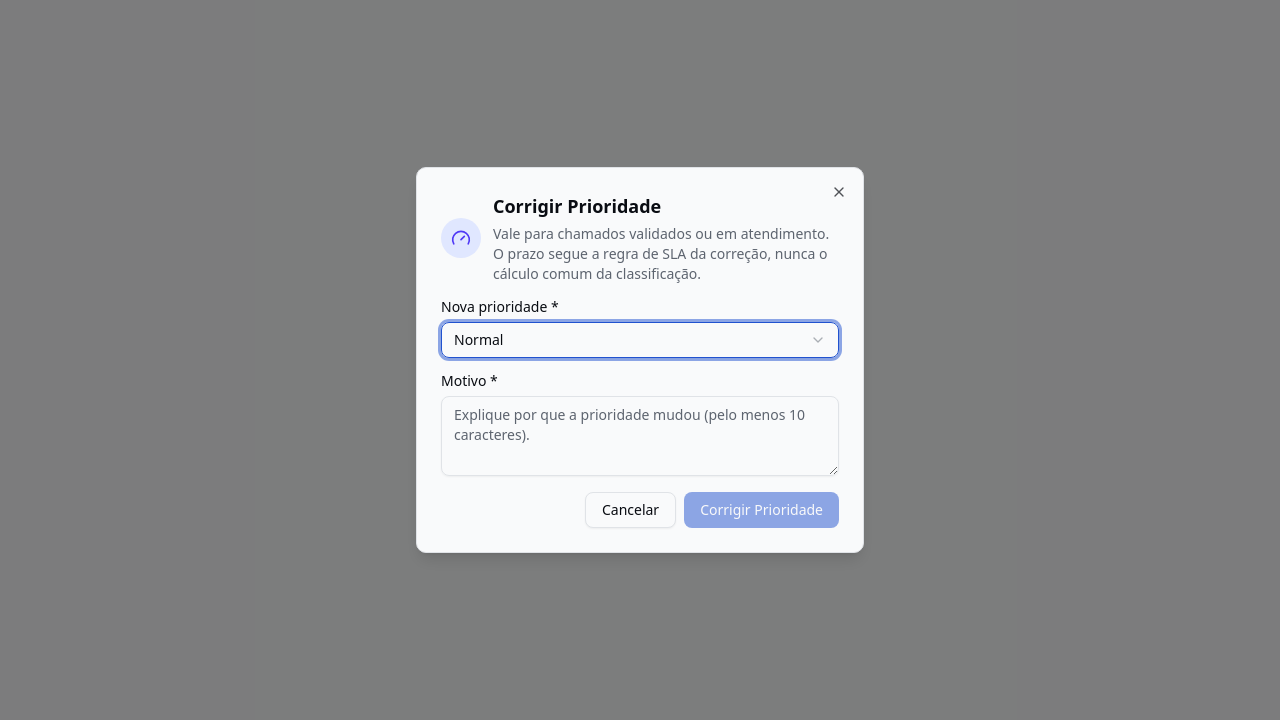
CorrigirPrioridadeDialog › motivo curto: não envia, mostra o erro de validação
The image size is (1280, 720).
Click the dropdown at (479, 340), box [441,322,839,358]
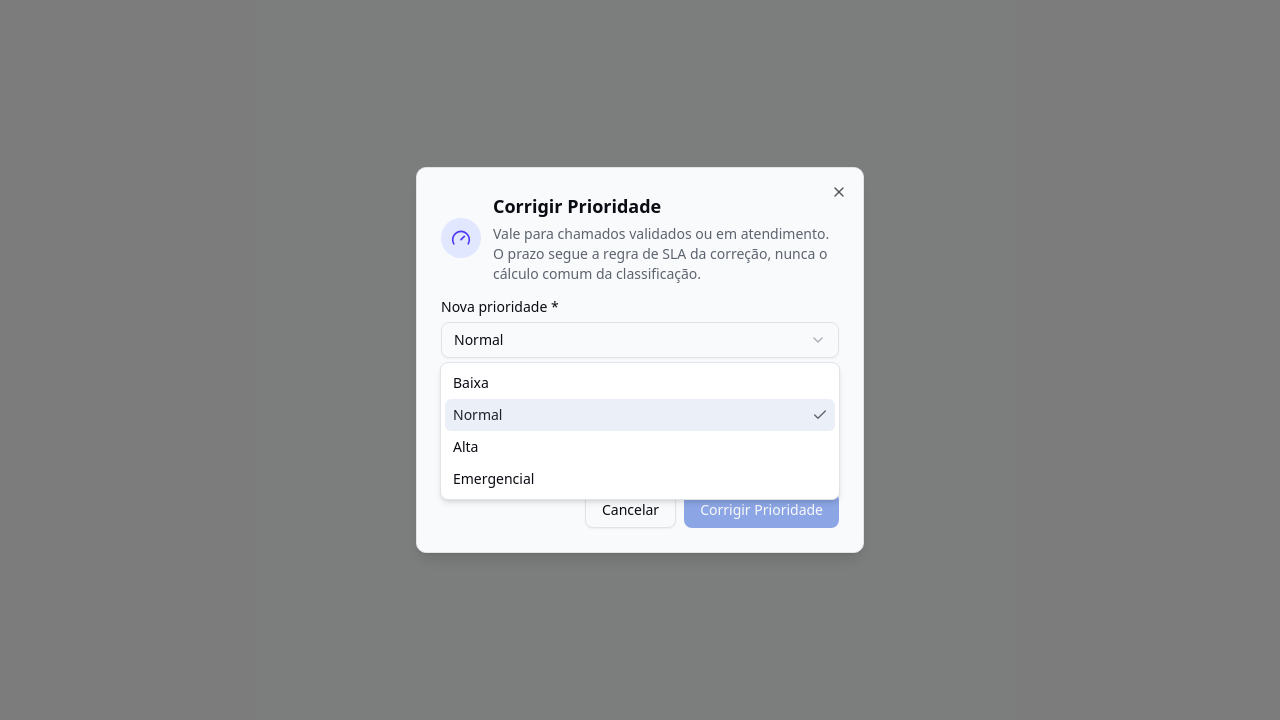
Click the option "Alta" at (466, 446), box [453,437,478,456]
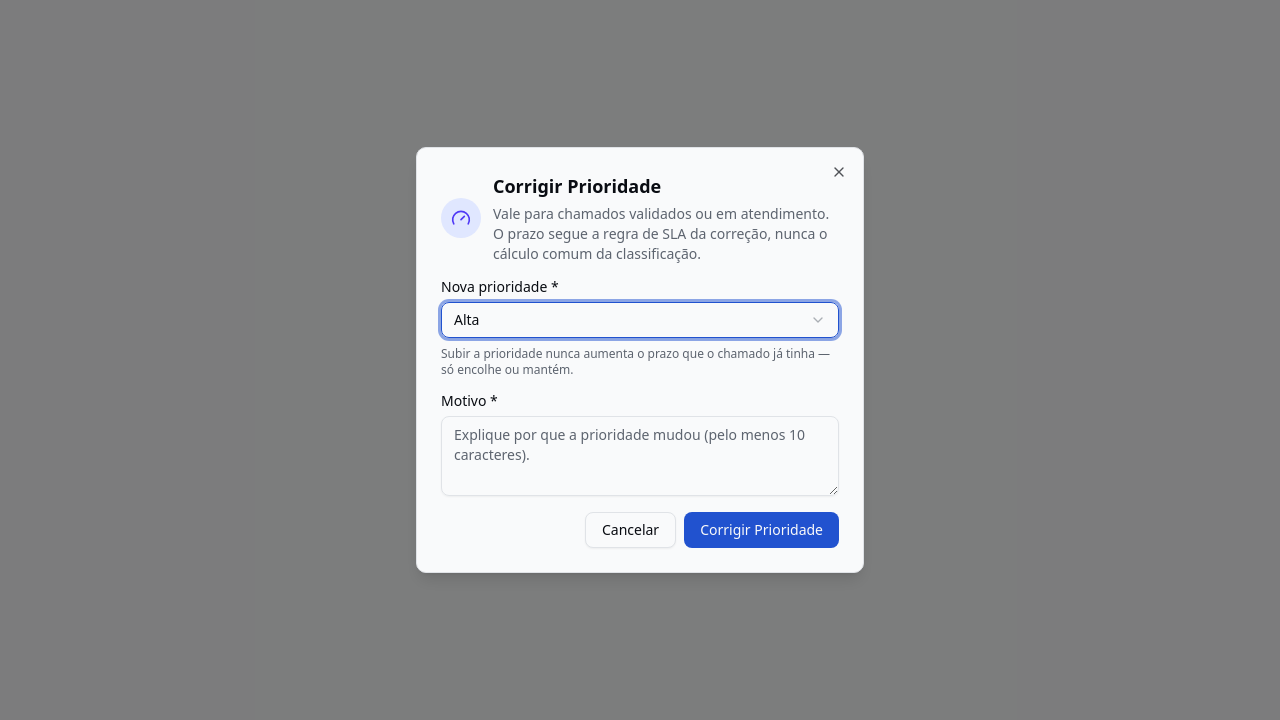
Type "curto" into the text box labelled "Motivo *" at (640, 456), box [441,416,839,496]
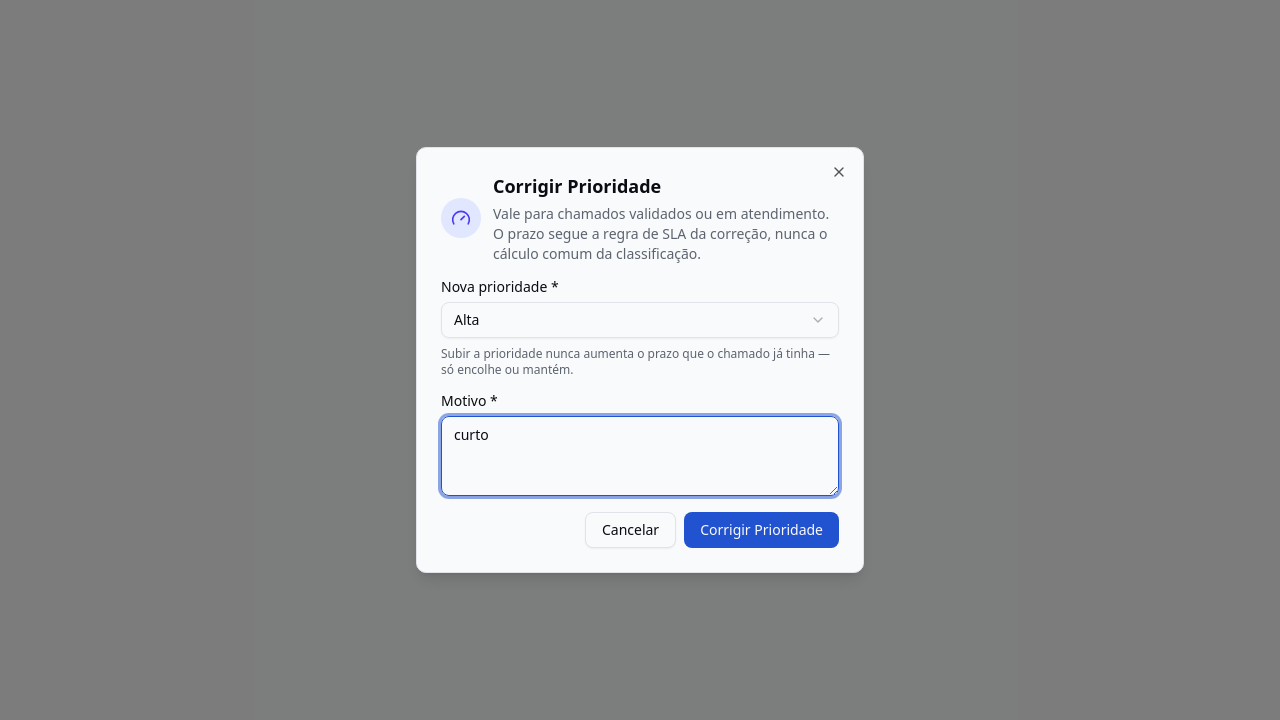
Click the button "Corrigir Prioridade" at (762, 530), box [684,512,839,548]
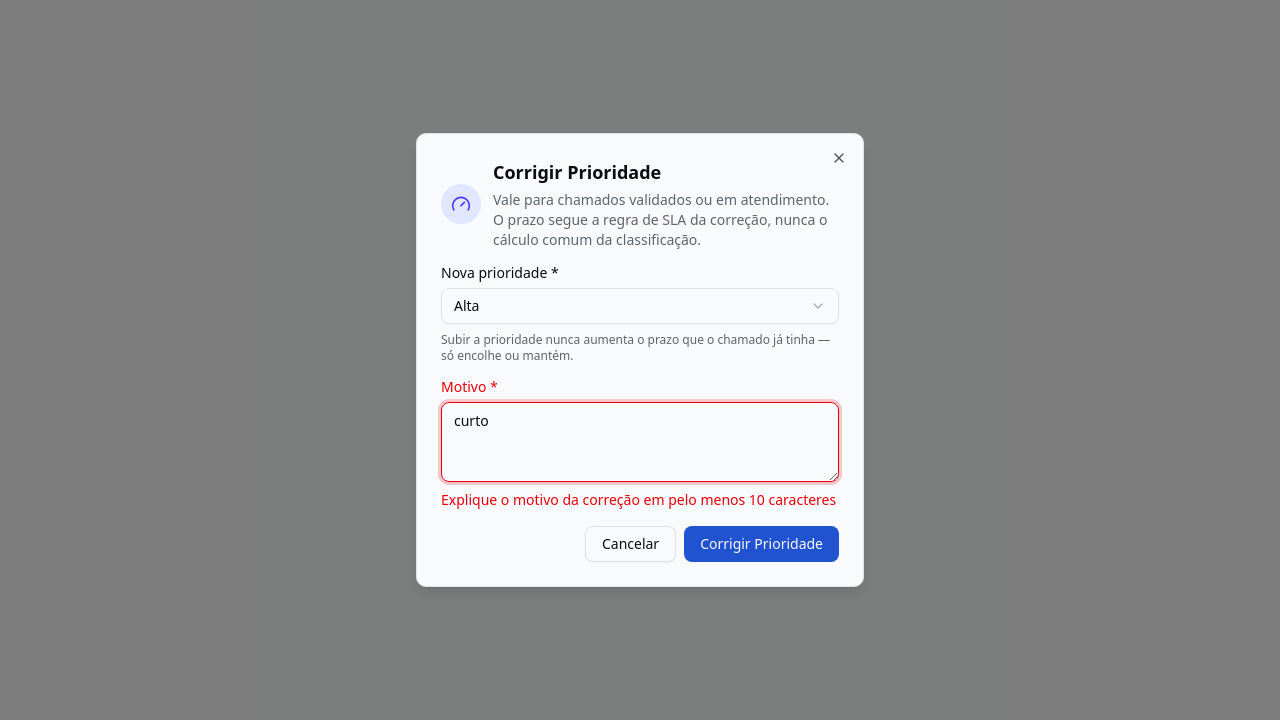
Expected: the text "Explique o motivo da correção em pelo menos 10 caracteres" is shown, [441,490,839,510]
